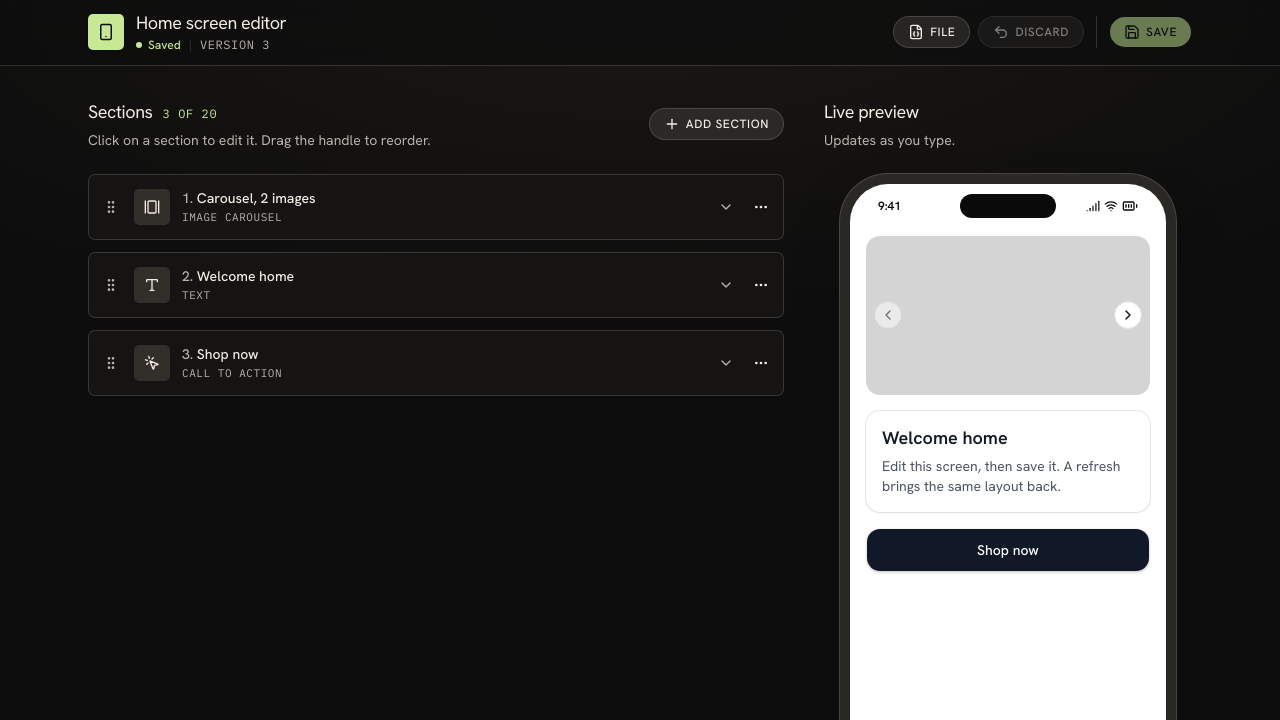
Scenario: EditorScreen › duplicates a section below the original
This screenshot has width=1280, height=720.
What coordinates should you click on to do the following:
click the button named "Actions for Welcome home"
I would click on:
 (761, 284)
Its box is x1=747 y1=270 x2=775 y2=298.
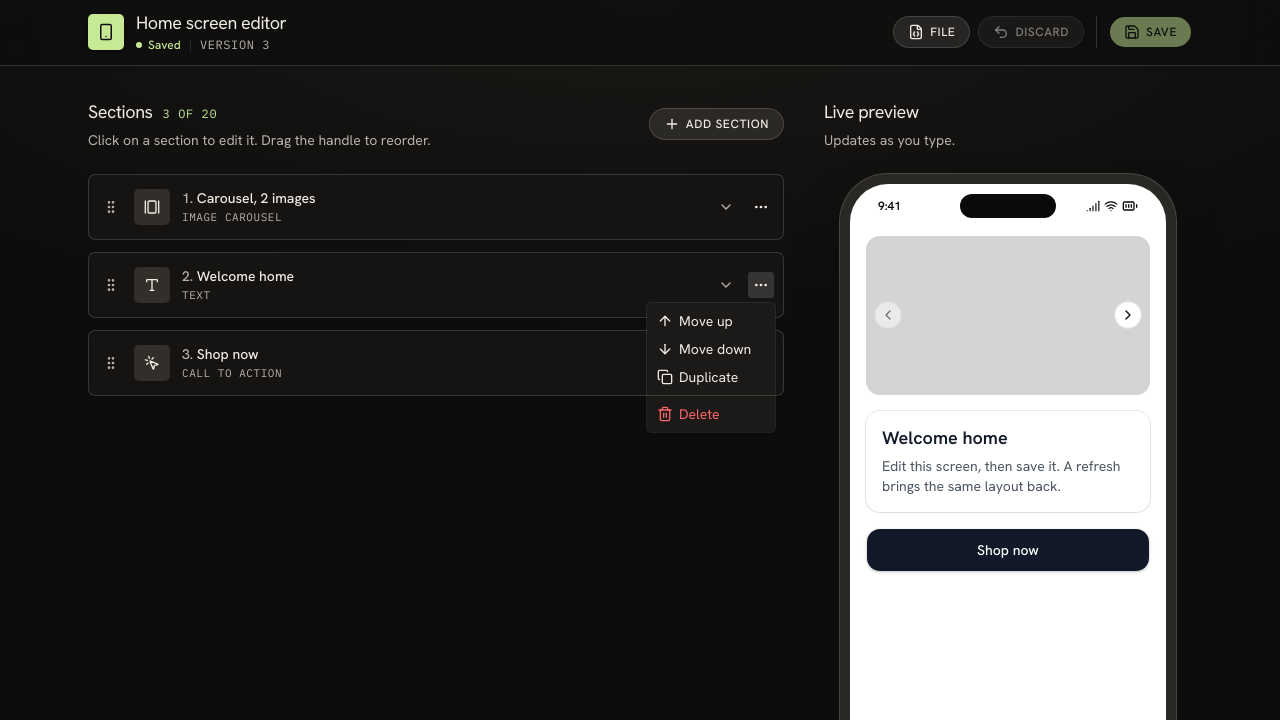
What coordinates should you click on to do the following:
click the menu item "Duplicate"
I would click on:
 (698, 377)
Its box is x1=657 y1=368 x2=738 y2=386.
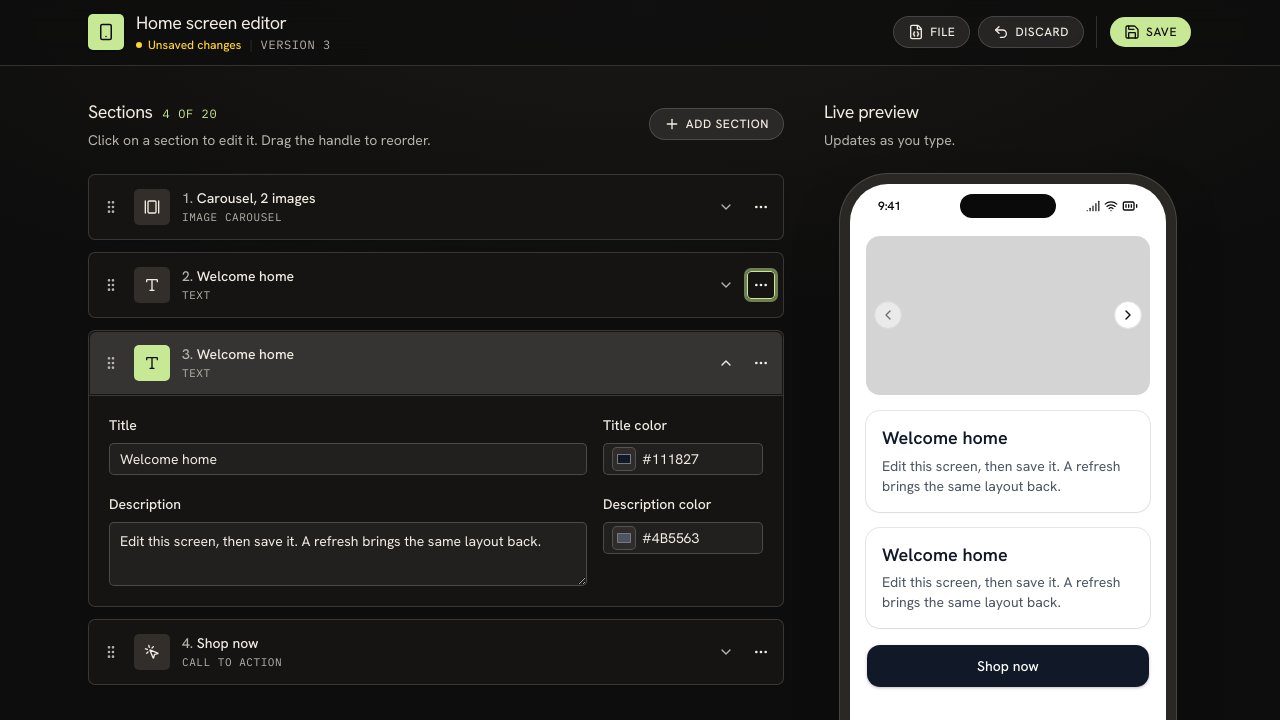
Check: the text "Welcome home" is shown 2 times, box x1=882 y1=426 x2=1008 y2=449; x1=882 y1=543 x2=1008 y2=566
